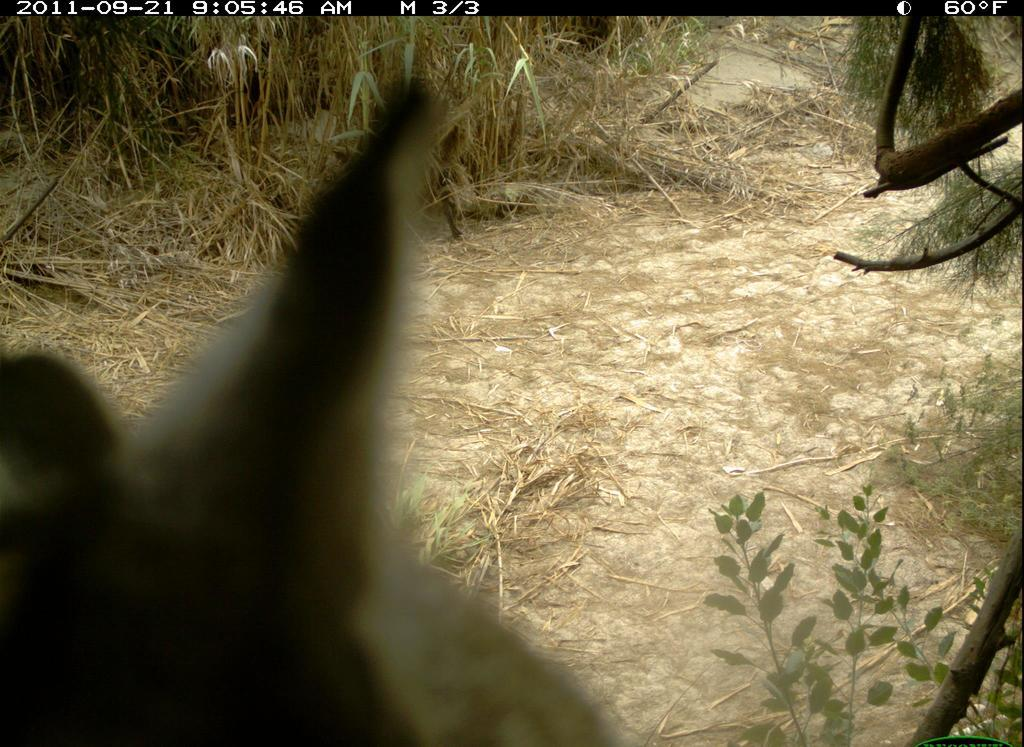bobcat: (1, 53, 681, 747)
